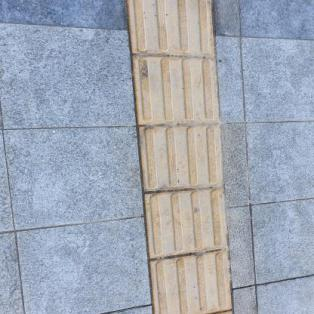Podoctatil: (117, 0, 241, 313)
